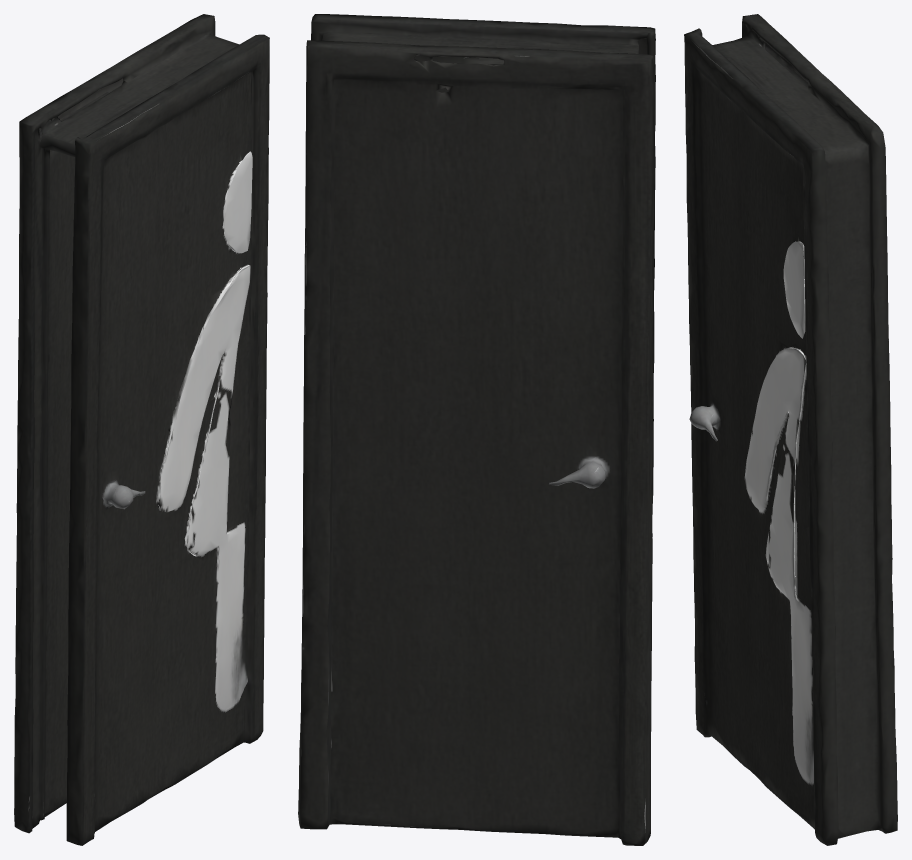
The picture shows the model from 3 angles, left to right: view 1: azimuth 30°, elevation 25°; view 2: azimuth 150°, elevation 25°; view 3: azimuth 270°, elevation 25°; orthographic projection. The views are drawn at different scales.
Bounding box in the file's own units: 0.3513 × 0.8567 × 0.2362.
Materials: 1 (1 with a texture image).
